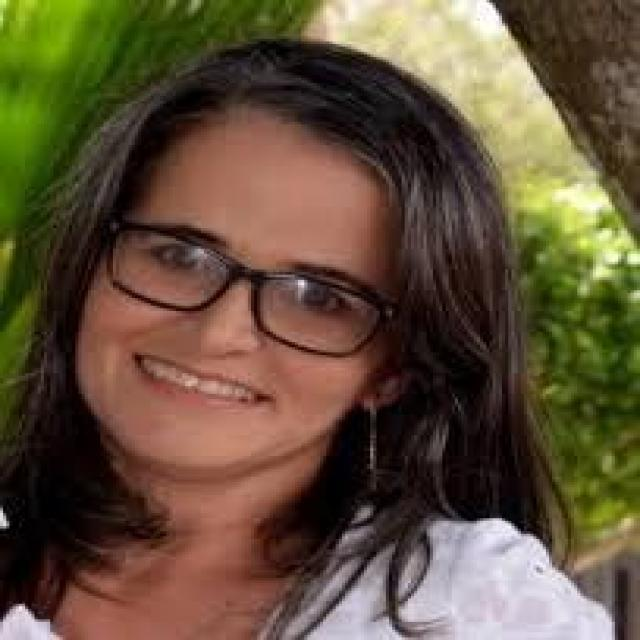person: (0, 39, 609, 637)
